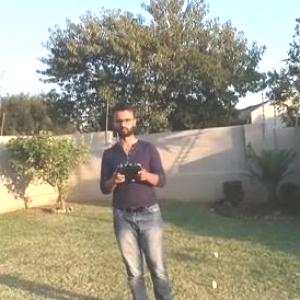follow: (96, 95, 178, 299)
